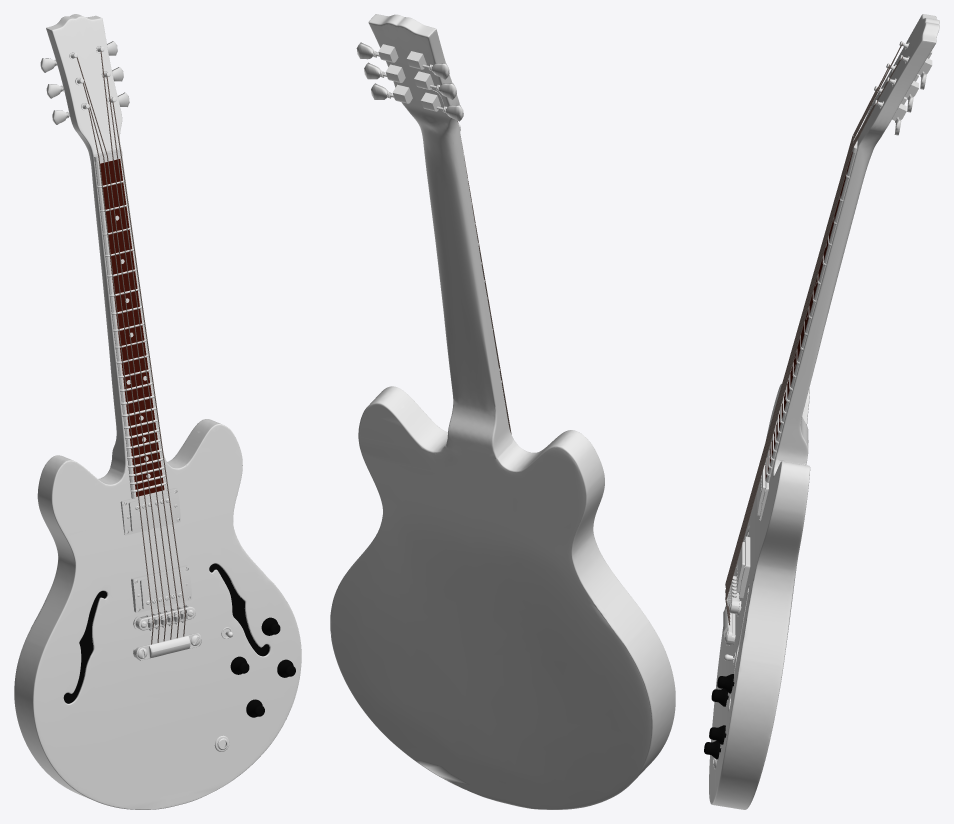
The model's file is 335whole OPT3.glb.
The picture shows the model from 3 angles, left to right: view 1: azimuth 30°, elevation 25°; view 2: azimuth 150°, elevation 25°; view 3: azimuth 270°, elevation 25°; orthographic projection. The views are drawn at different scales.
Visible parts, largest first — view 1: varnish, fretboard, strings, pickup_cover, fretbinding, tail_saddle, frets, UN_inside, pickup_ring, mechs, knobs; view 2: varnish, mechs; view 3: varnish, strings, fretbinding, mechs, knobs, fretboard, tail_saddle, frets, pickup_cover, pickup_ring.
Boxes of the visible parts, x1=… form: varnish: x1=14, y1=14, x2=301, y2=809; fretboard: x1=100, y1=159, x2=164, y2=496; strings: x1=77, y1=51, x2=185, y2=644; pickup_cover: x1=128, y1=492, x2=186, y2=609; fretbinding: x1=95, y1=156, x2=166, y2=498; tail_saddle: x1=133, y1=603, x2=201, y2=660; frets: x1=97, y1=179, x2=166, y2=492; UN_inside: x1=63, y1=563, x2=269, y2=703; pickup_ring: x1=120, y1=488, x2=192, y2=612; mechs: x1=40, y1=41, x2=129, y2=124; knobs: x1=230, y1=617, x2=295, y2=717; varnish: x1=330, y1=14, x2=675, y2=809; mechs: x1=356, y1=42, x2=463, y2=121; varnish: x1=709, y1=14, x2=939, y2=809; strings: x1=725, y1=42, x2=902, y2=625; fretbinding: x1=765, y1=152, x2=855, y2=482; mechs: x1=874, y1=41, x2=932, y2=135; knobs: x1=704, y1=674, x2=734, y2=759; fretboard: x1=765, y1=152, x2=852, y2=478; tail_saddle: x1=723, y1=576, x2=741, y2=645; frets: x1=766, y1=173, x2=849, y2=476; pickup_cover: x1=736, y1=465, x2=765, y2=592; pickup_ring: x1=739, y1=461, x2=768, y2=599.
Size of the model in its own units: 0.7737 by 1.98 by 0.5506.
